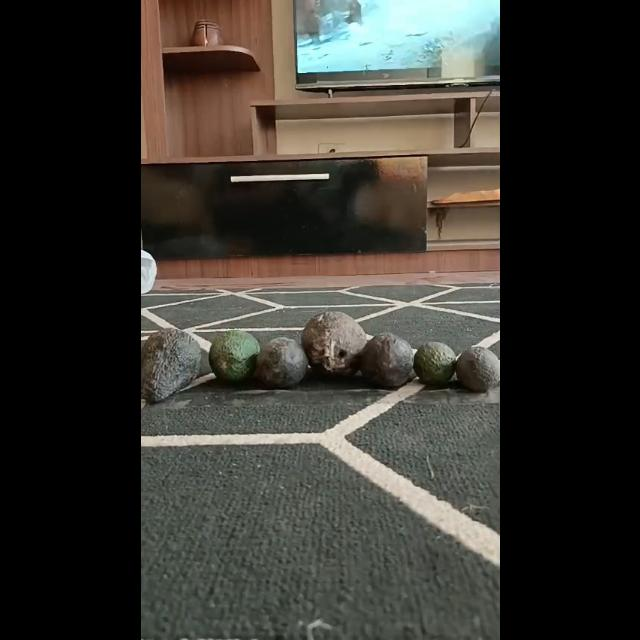Primera: (140, 328, 202, 404), (301, 311, 367, 381)
Segunda: (356, 332, 414, 388), (254, 337, 308, 388), (208, 330, 260, 382)
Tercera: (412, 341, 456, 385), (456, 346, 498, 392)
